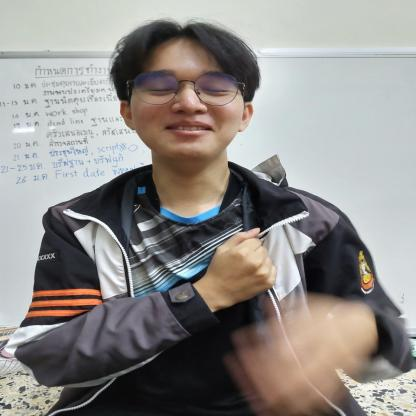Sad: (183, 228, 279, 310)
